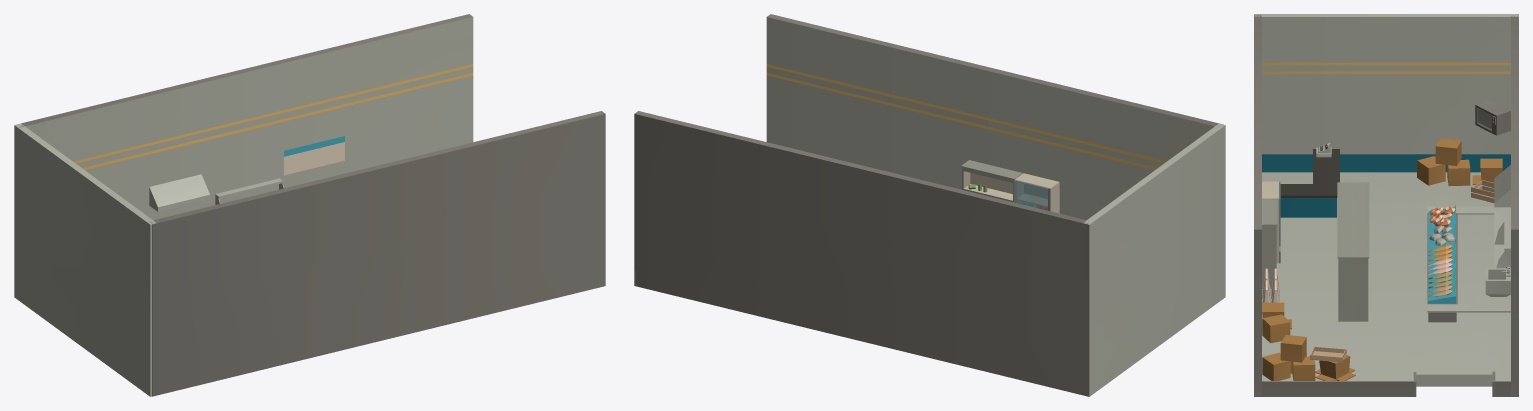
File: market_inside.fbx
3 renders of one model, left to right at view 1: azimuth 30°, elevation 25°; view 2: azimuth 150°, elevation 25°; view 3: azimuth 270°, elevation 25°, orthographic. The views are drawn at different scales.
Visible parts, largest first — view 1: polySurface2128, polySurface2126, polySurface2127, pCube359, pPlane18; view 2: polySurface2126, polySurface2128, polySurface2127, pCube289, pCube350, pCube354; view 3: polySurface2127, polySurface2100, polySurface2128, polySurface2126, polySurface2097, polySurface2124, pCube294, pCube293, pCube288, pCube289, pCube360, junkyard:polySurface335 (+24 smaller).
Boxes of the visible parts, x1,y1,x2,y2 form: polySurface2128: [149, 111, 605, 396]; polySurface2126: [19, 14, 473, 220]; polySurface2127: [14, 123, 156, 396]; pCube359: [149, 174, 209, 211]; pPlane18: [284, 136, 344, 175]; polySurface2126: [634, 111, 1088, 396]; polySurface2128: [766, 14, 1223, 220]; polySurface2127: [1083, 123, 1225, 396]; pCube289: [961, 160, 1022, 202]; pCube350: [1014, 173, 1059, 213]; pCube354: [1014, 180, 1050, 211]; polySurface2127: [1254, 14, 1518, 172]; polySurface2100: [1262, 172, 1510, 386]; polySurface2128: [1254, 14, 1261, 396]; polySurface2126: [1511, 14, 1518, 396]; polySurface2097: [1262, 381, 1413, 396]; polySurface2124: [1280, 149, 1339, 197]; pCube294: [1337, 232, 1354, 321]; pCube293: [1352, 232, 1369, 321]; pCube288: [1428, 206, 1455, 303]; pCube289: [1262, 199, 1277, 288]; pCube360: [1280, 198, 1336, 217]; junkyard:polySurface335: [1475, 100, 1510, 135].
Bounding box in the file's own units: 113 × 40.81 × 58.59.
Materials: 4 (3 with a texture image).
